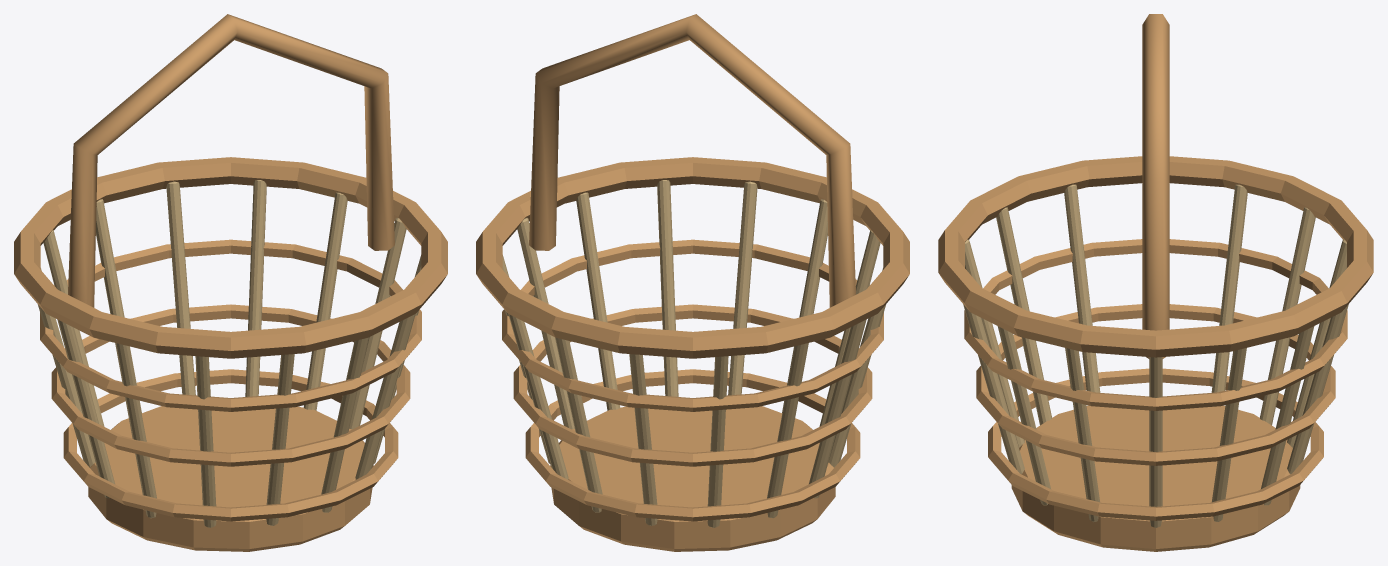
The model's file is CC22_Woven_Gathering_Basket.glb.
The picture shows the model from 3 angles, left to right: view 1: azimuth 30°, elevation 25°; view 2: azimuth 150°, elevation 25°; view 3: azimuth 270°, elevation 25°; orthographic projection.
Visible parts, largest first — view 1: Basket_Rim, Basket_Base, Basket_Handle, Woven_Band.002, Woven_Band.001, Woven_Band, Woven_Upright_03, Woven_Upright_04, Woven_Upright_02, Woven_Upright_01, Woven_Upright_09, Woven_Upright_10 (+7 smaller); view 2: Basket_Rim, Basket_Base, Basket_Handle, Woven_Band.002, Woven_Band.001, Woven_Band, Woven_Upright_13, Woven_Upright_12, Woven_Upright_14, Woven_Upright_01, Woven_Upright_07, Woven_Upright_06 (+7 smaller); view 3: Basket_Rim, Basket_Base, Woven_Band.002, Basket_Handle, Woven_Band.001, Woven_Band, Woven_Upright_07, Woven_Upright_09, Woven_Upright_06, Woven_Upright_10, Woven_Upright_01, Woven_Upright_02 (+7 smaller).
Part boxes in pixels (x1=…): Basket_Rim: x1=14, y1=157, x2=447, y2=358; Basket_Base: x1=88, y1=406, x2=373, y2=551; Basket_Handle: x1=68, y1=14, x2=394, y2=307; Woven_Band.002: x1=40, y1=239, x2=421, y2=411; Woven_Band.001: x1=51, y1=304, x2=410, y2=466; Woven_Band: x1=63, y1=369, x2=398, y2=521; Woven_Upright_03: x1=245, y1=180, x2=266, y2=396; Woven_Upright_04: x1=166, y1=181, x2=195, y2=395; Woven_Upright_02: x1=303, y1=192, x2=347, y2=410; Woven_Upright_01: x1=349, y1=218, x2=406, y2=429; Woven_Upright_09: x1=115, y1=343, x2=156, y2=518; Woven_Upright_10: x1=195, y1=356, x2=216, y2=527; Basket_Rim: x1=476, y1=157, x2=909, y2=358; Basket_Base: x1=550, y1=406, x2=835, y2=551; Basket_Handle: x1=529, y1=14, x2=855, y2=307; Woven_Band.002: x1=502, y1=239, x2=883, y2=411; Woven_Band.001: x1=513, y1=304, x2=872, y2=466; Woven_Band: x1=525, y1=369, x2=860, y2=521; Woven_Upright_13: x1=657, y1=180, x2=678, y2=396; Woven_Upright_12: x1=728, y1=181, x2=757, y2=395; Woven_Upright_14: x1=576, y1=192, x2=620, y2=410; Woven_Upright_01: x1=517, y1=218, x2=574, y2=429; Woven_Upright_07: x1=767, y1=343, x2=808, y2=518; Woven_Upright_06: x1=707, y1=356, x2=728, y2=527; Basket_Rim: x1=938, y1=156, x2=1373, y2=357; Basket_Base: x1=1011, y1=405, x2=1300, y2=551; Woven_Band.002: x1=964, y1=239, x2=1347, y2=410; Basket_Handle: x1=1142, y1=14, x2=1169, y2=358; Woven_Band.001: x1=976, y1=304, x2=1335, y2=465; Woven_Band: x1=988, y1=368, x2=1323, y2=520; Woven_Upright_07: x1=1211, y1=184, x2=1247, y2=392; Woven_Upright_09: x1=1064, y1=184, x2=1100, y2=392; Woven_Upright_06: x1=1260, y1=207, x2=1315, y2=425; Woven_Upright_10: x1=996, y1=207, x2=1051, y2=425; Woven_Upright_01: x1=1149, y1=357, x2=1162, y2=527; Woven_Upright_02: x1=1212, y1=348, x2=1246, y2=521.
Size of the model in its own units: 1.47 by 1.76 by 1.45.
